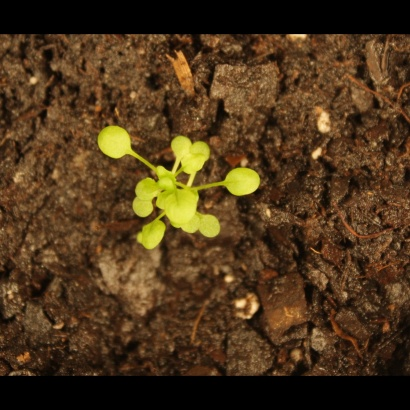leaf: (96, 120, 136, 162), (158, 189, 200, 229), (221, 165, 263, 199), (135, 217, 169, 251), (187, 136, 219, 163), (196, 213, 226, 240), (134, 176, 161, 205), (175, 211, 202, 239), (152, 165, 177, 194), (169, 131, 192, 162), (180, 151, 204, 177), (129, 194, 155, 218)
